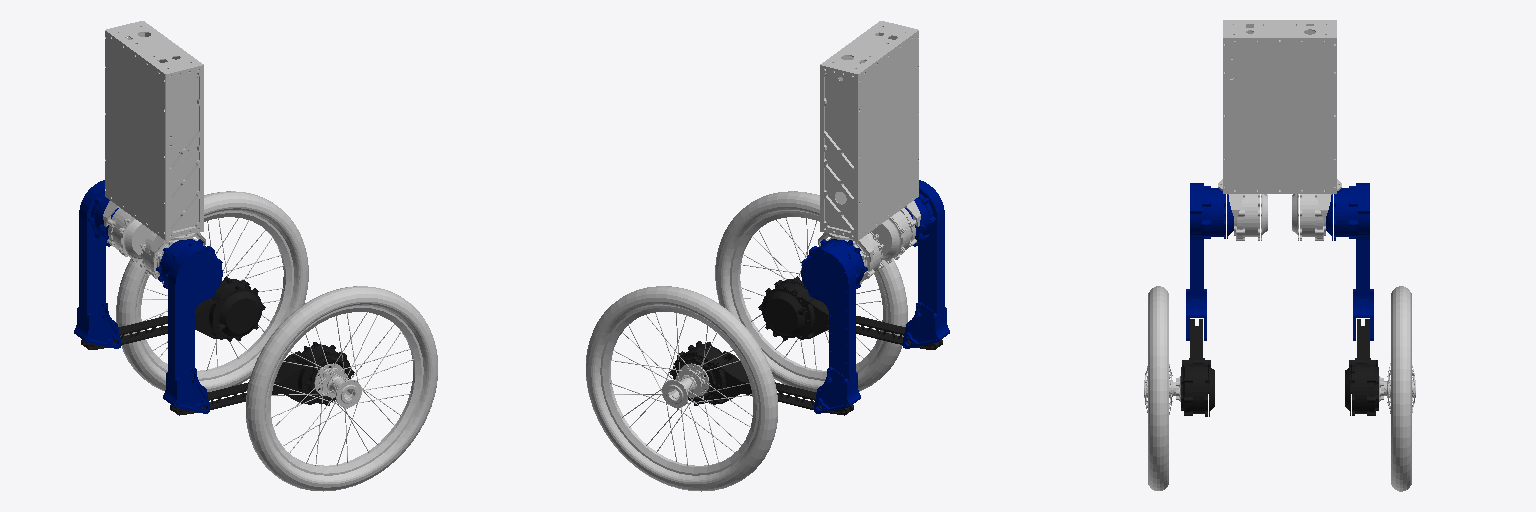
robot.urdf — segway:
<?xml version="1.0" encoding="utf-8"?>
<robot name="segway">
  <material
    name="black">
    <color rgba="0.15 0.15 0.15 1.0"/>
  </material>
  <material
    name="blue">
    <color rgba="0.0 0.125 0.53 1.0"/>
  </material>
  <material
    name="white">
    <color rgba="0.8 0.8 0.8 1.0"/>
  </material>
   <material
     name="red">
     <color rgba="1.0 0.0 0.0 1.0"/>
   </material>


  <link name="Segway_TORSO">
    <inertial>
      <origin
        xyz="0.04171 -0.00167 0.05873"
        rpy="0 0 0" />
      <mass
        value="14.1468" />
      <inertia
        ixx="0.46196144111"
        ixy="-0.00152974710"
        ixz="0.03040197799"
        iyy="0.40557616359"
        iyz="0.00765353691"
        izz="0.13941915327" />
    </inertial>
    <visual>
      <origin
        xyz="0 0 0"
        rpy="0 0 0" />
      <geometry>
        <mesh filename="meshes/raiway_TORSO_new.STL"/>
      </geometry>
      <material name="white"/>
    </visual>
    <collision>
      <origin
        xyz="0.043 0 0.165677"
        rpy="0 0 0" />
      <geometry>
        <box size="0.101 0.276 0.415" />
      </geometry>
    </collision>
    <collision>
      <origin
        xyz="0.043 0.075 -0.11413"
        rpy="1.57079632679 0 0" />
      <geometry>
        <cylinder length="0.07" radius="0.0635"/>
      </geometry>
    </collision>
    <collision>
      <origin
        xyz="0.043 -0.075 -0.11413"
        rpy="1.57079632679 0 0" />
      <geometry>
        <cylinder length="0.07" radius="0.0635"/>
      </geometry>
    </collision>
  </link>

  <link name="Segway_L_THIGH">
    <inertial>
      <origin
        xyz="-0.00937 -0.02917 -0.04221"
        rpy="0 0 0" />
      <mass
        value="3.2778" />
      <inertia
        ixx="0.04260892976"
        ixy="0.00005114275"
        ixz="0.00537573634"
        iyy="0.04162490269"
        iyz="0.00032962679"
        izz="0.01011108293" />
    </inertial>
    <visual>
      <origin
        xyz="0 0 0"
        rpy="0 0 0" />
      <geometry>
        <mesh filename="meshes/raiway_L_THIGH.STL"/>
      </geometry>
      <material name="blue"/>
    </visual>
    <collision>
        <origin rpy="0 0 0" xyz="-0.04575 0 -0.13"/>
        <geometry>
          <box size="0.05150 0.03446 0.23"/>
        </geometry>
    </collision>
    <collision>
        <origin rpy="1.57079632679 0 0" xyz="0 -0.035 0"/>
        <geometry>
          <cylinder length="0.1" radius="0.0635"/>
        </geometry>
    </collision>
  </link>
  <joint
    name="L_HFE"
    type="revolute">
    <origin
      xyz="0.0435 0.20098 -0.11413"
      rpy="0 0 0" />
    <parent link="Segway_TORSO" />
    <child link="Segway_L_THIGH" />
    <axis
      xyz="0 1 0" />
    <limit
      lower="-3.14"
      upper="3.14"
      effort="90"
      velocity="25" />
    <dynamics
       rotor_inertia="0.022811353" />
  </joint>

  <link name="Segway_L_SHANK">
    <inertial>
      <origin
        xyz="0.00002 0.00135 -0.28255"
        rpy="0 0 0" />
      <mass
        value="2.4835" />
      <inertia
        ixx="0.22103282154"
        ixy="0.00000349733"
        ixz="-0.00000396431"
        iyy="0.22272558982"
        iyz="-0.00111303858"
        izz="0.00325186068" />
    </inertial>
    <visual>
      <origin
        xyz="0 0 0"
        rpy="0 0 0" />
      <geometry>
        <mesh filename="meshes/raiway_L_SHANK.STL"/>
      </geometry>
      <material name="black"/>
    </visual>
    <collision>
      <origin rpy="0 1.57079632679 0" xyz="0 0 -0.14"/>
      <geometry>
        <box size="0.415 0.03186 0.029"/>
      </geometry>
    </collision>
    <collision>
        <origin rpy="1.57079632679 0 0" xyz="0 0 -0.32"/>
        <geometry>
            <cylinder length="0.07" radius="0.0635"/>
        </geometry>
    </collision>
  </link>

  <joint
    name="L_KFE"
    type="revolute">
    <origin
      xyz="0 0 -0.320"
      rpy="0 0 0" />
    <parent link="Segway_L_THIGH" />
    <child link="Segway_L_SHANK" />
    <axis
      xyz="0 1 0" />
    <limit
      lower="-2.6843164"
      upper="-0.4572763"
      effort="90"
      velocity="25" />
    <dynamics
       rotor_inertia="0.022811353" />
  </joint>

  <link name="Segway_L_WHEEL">
    <inertial>
      <origin
        xyz="0 0.08642 0"
        rpy="0 0 0" />
      <mass
        value="1.46382" />
      <inertia
        ixx="0.04388230422"
        ixy="-0.00000001066"
        ixz="-0.00000001083"
        iyy="0.102"
        iyz="-0.00000003194"
        izz="0.04388227272" />
    </inertial>
    <visual>
      <origin
        xyz="0 0 0"
        rpy="0 0 0" />
      <geometry>
        <mesh filename="meshes/raiway_L_WHEEL.STL" />
      </geometry>
      <material name="white"/>
    </visual>
    <collision>
      <origin rpy="1.57079632679 0 0" xyz="0 0.09745 0"/>
      <geometry>
        <cylinder radius="0.254" length="0.052"/>
      </geometry>
      <material name="">
        <contact name="L_FOOT_MATERIAL"/>
      </material>
    </collision>
  </link>

  <joint
      name="L_WHEEL"
      type="revolute">
      <origin
        xyz="0.0 0.0 -0.32"
        rpy="0 0 0" />
      <parent link="Segway_L_SHANK" />
      <child link="Segway_L_WHEEL" />
      <axis
        xyz="0 1 0" />
      <limit
        effort="90"
        velocity="25" />
      <dynamics
         rotor_inertia="0.022811353" />
  </joint>
  <link name="Segway_R_THIGH">
    <inertial>
      <origin
        xyz="-0.00937 0.02917 -0.04221"
        rpy="0 0 0" />
      <mass
        value="3.2778" />
      <inertia
        ixx="0.04260892976"
        ixy="-0.00005114275"
        ixz="0.00537573634"
        iyy="0.04162490269"
        iyz="-0.00032962679"
        izz="0.01011108293" />
    </inertial>
    <visual>
      <origin
        xyz="0 0 0"
        rpy="0 0 0" />
      <geometry>
        <mesh filename="meshes/raiway_R_THIGH.STL"/>
      </geometry>
      <material name="blue"/>
    </visual>
    <collision>
      <origin rpy="0 0 0" xyz="-0.04575 0 -0.13"/>
      <geometry>
        <box size="0.05150 0.03446 0.23"/>
      </geometry>
    </collision>
    <collision>
        <origin rpy="1.57079632679 0 0" xyz="0 0.035 0"/>
        <geometry>
            <cylinder length="0.1" radius="0.0635"/>
        </geometry>
    </collision>
  </link>
  <joint
    name="R_HFE"
    type="revolute">
    <origin
      xyz="0.0435 -0.20098 -0.11413"
      rpy="0 0 0" />
    <parent link="Segway_TORSO" />
    <child link="Segway_R_THIGH" />
    <axis
      xyz="0 1 0" />
    <limit
      lower="-3.14"
      upper="3.14"
      effort="90"
      velocity="25" />
    <dynamics
       rotor_inertia="0.022811353" />
  </joint>

  <link name="Segway_R_SHANK">
    <inertial>
      <origin
        xyz="0.00002 -0.00135 -0.28255"
        rpy="0 0 0" />
      <mass
        value="2.4835" />
      <inertia
        ixx="0.22103282154"
        ixy="-0.00000349733"
        ixz="-0.00000396431"
        iyy="0.22272558982"
        iyz="0.00111303858"
        izz="0.00325186068" />
    </inertial>
    <visual>
      <origin
        xyz="0 0 0"
        rpy="0 0 0" />
      <geometry>
        <mesh filename="meshes/raiway_R_SHANK.STL"/>
      </geometry>
      <material name="black"/>
    </visual>
    <collision>
      <origin rpy="0 1.57079632679 0" xyz="0 0 -0.14"/>
      <geometry>
        <box size="0.415 0.03186 0.029"/>
      </geometry>
    </collision>
    <collision>
        <origin rpy="1.57079632679 0 0" xyz="0 0 -0.32"/>
        <geometry>
          <cylinder length="0.07" radius="0.0635"/>
        </geometry>
    </collision>
  </link>

  <joint
    name="R_KFE"
    type="revolute">
    <origin
      xyz="0 0 -0.320"
      rpy="0 0 0" />
    <parent link="Segway_R_THIGH" />
    <child link="Segway_R_SHANK" />
    <axis
      xyz="0 1 0" />
    <limit
      lower="-2.6843164"
      upper="-0.4572763"
      effort="90"
      velocity="25" />
    <dynamics
       rotor_inertia="0.022811353" />
  </joint>

  <link name="Segway_R_WHEEL">
    <inertial>
      <origin
        xyz="0 -0.08642 0"
        rpy="0 0 0" />
      <mass
        value="1.46382" />
      <inertia
        ixx="0.04388230422"
        ixy="0.00000001066"
        ixz="-0.00000001083"
        iyy="0.102"
        iyz="0.00000003194"
        izz="0.04388227272" />
    </inertial>
    <visual>
      <origin
        xyz="0 0 0"
        rpy="0 0 0" />
      <geometry>
        <mesh filename="meshes/raiway_R_WHEEL.STL" />
      </geometry>
      <material name="white"/>
    </visual>
    <collision>
      <origin rpy="1.57079632679 0 0" xyz="0 -0.09745 0"/>
      <geometry>
        <cylinder radius="0.254" length="0.052"/>
      </geometry>
      <material name="">
        <contact name="R_FOOT_MATERIAL"/>
      </material>
    </collision>
  </link>

  <joint
      name="R_WHEEL"
      type="revolute">
      <origin
        xyz="0.0 0.0 -0.32"
        rpy="0 0 0" />
      <parent link="Segway_R_SHANK" />
      <child link="Segway_R_WHEEL" />
      <axis
        xyz="0 1 0" />
      <limit
        effort="90"
        velocity="25" />
      <dynamics
         rotor_inertia="0.022811353" />
  </joint>

</robot>

--- Facts derived from the render (not from the file) ---
3 views of the same robot in one strip: view 1: azimuth 30°, elevation 25°; view 2: azimuth 150°, elevation 25°; view 3: azimuth 270°, elevation 25° (orthographic).
Model segway with 7 links and 6 joints (6 revolute), rooted at Segway_TORSO, posed joints at zero except 2 at the middle of their limits (L_KFE = -1.57, R_KFE = -1.57).
Visible links, largest first — view 1: Segway_TORSO, Segway_R_WHEEL, Segway_L_WHEEL, Segway_R_THIGH, Segway_L_THIGH, Segway_L_SHANK, Segway_R_SHANK; view 2: Segway_TORSO, Segway_L_WHEEL, Segway_R_WHEEL, Segway_L_THIGH, Segway_R_THIGH, Segway_R_SHANK, Segway_L_SHANK; view 3: Segway_TORSO, Segway_L_WHEEL, Segway_R_WHEEL, Segway_L_THIGH, Segway_R_THIGH, Segway_R_SHANK, Segway_L_SHANK.
Boxes of the visible links, x1,y1,x2,y2 form: Segway_TORSO: [103, 21, 205, 284]; Segway_R_WHEEL: [246, 286, 437, 491]; Segway_L_WHEEL: [116, 191, 308, 391]; Segway_R_THIGH: [156, 239, 222, 413]; Segway_L_THIGH: [74, 180, 121, 348]; Segway_L_SHANK: [81, 276, 265, 349]; Segway_R_SHANK: [170, 342, 354, 415]; Segway_TORSO: [818, 21, 920, 284]; Segway_L_WHEEL: [586, 286, 777, 491]; Segway_R_WHEEL: [715, 191, 907, 391]; Segway_L_THIGH: [801, 239, 867, 413]; Segway_R_THIGH: [902, 180, 949, 348]; Segway_R_SHANK: [758, 276, 942, 349]; Segway_L_SHANK: [669, 341, 853, 415]; Segway_TORSO: [1218, 20, 1341, 240]; Segway_L_WHEEL: [1379, 286, 1415, 491]; Segway_R_WHEEL: [1144, 286, 1180, 490]; Segway_L_THIGH: [1326, 183, 1373, 340]; Segway_R_THIGH: [1186, 183, 1233, 340]; Segway_R_SHANK: [1181, 319, 1214, 416]; Segway_L_SHANK: [1345, 319, 1378, 415].
Size in the robot's own frame: 0.6477 by 0.6578 by 1.06 metres.
7 mesh visuals loaded from 7 distinct referenced files (7 binary STL).
